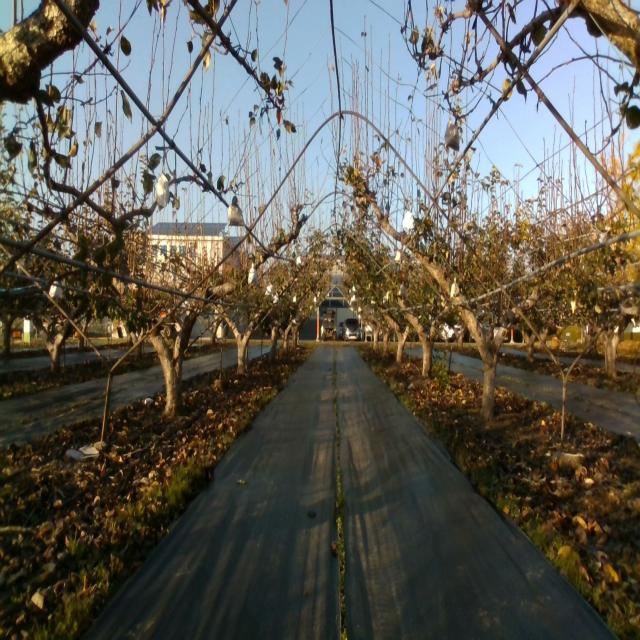pearbags: (227, 194, 244, 226), (156, 174, 170, 210), (444, 119, 460, 150), (248, 263, 258, 284)
